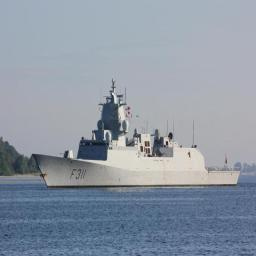Fragata: (34, 77, 243, 194)
